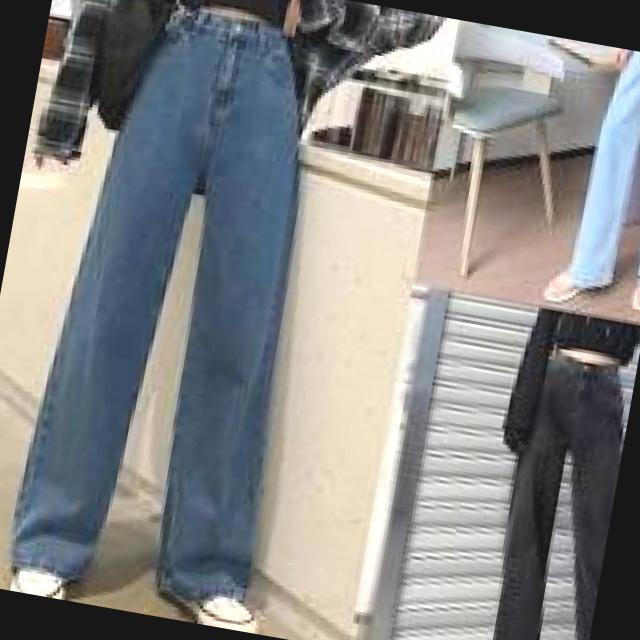pants: (0, 0, 358, 610), (467, 337, 638, 640), (553, 43, 640, 292)
